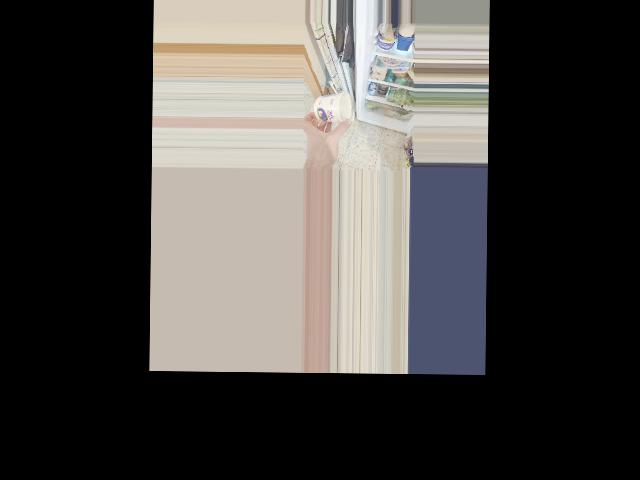cotage: (309, 91, 353, 125)
